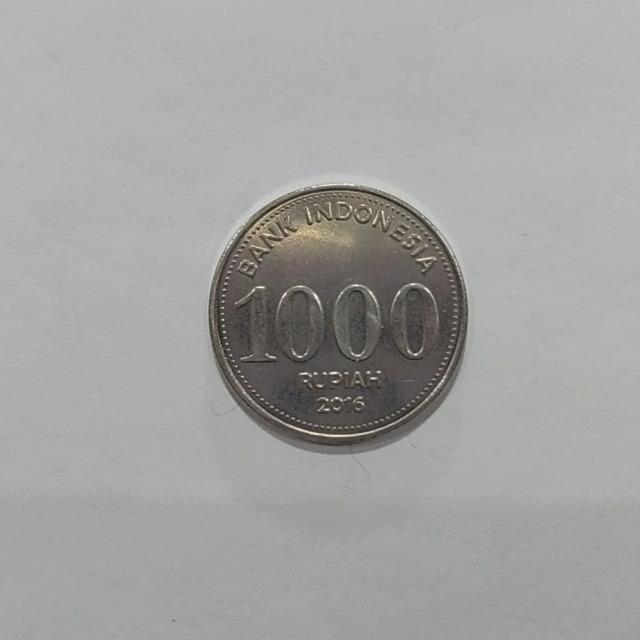Rp100: (206, 180, 469, 453)
